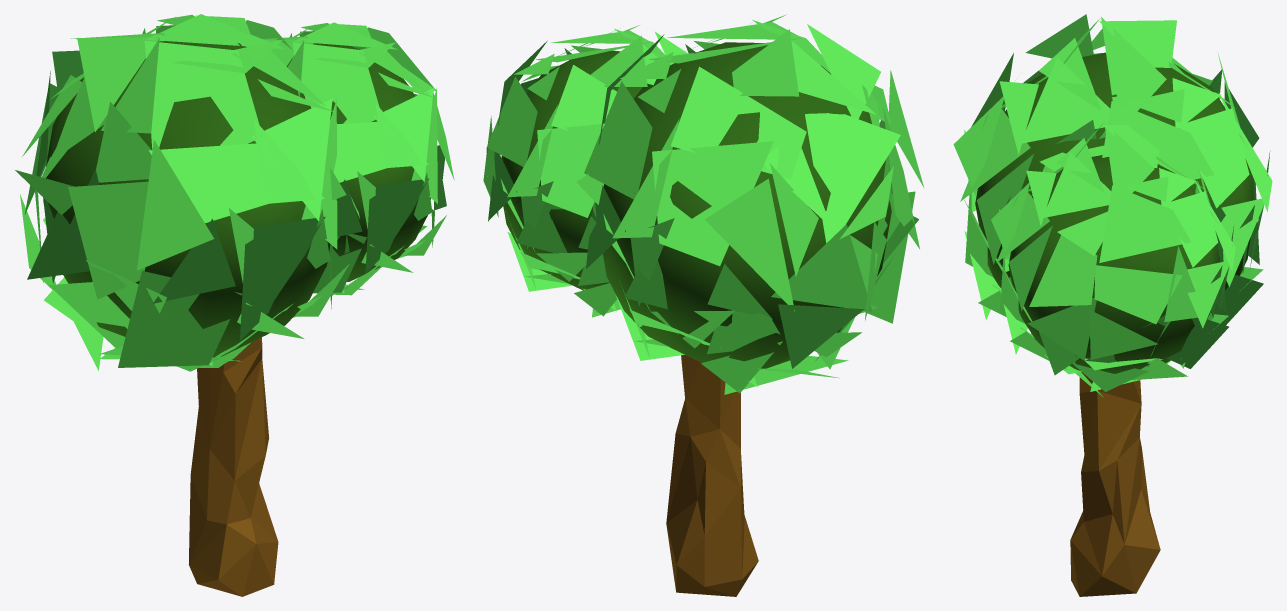
File: ArbolDef1.fbx
3 renders of one model, left to right at view 1: azimuth 30°, elevation 25°; view 2: azimuth 150°, elevation 25°; view 3: azimuth 270°, elevation 25°, orthographic. The views are drawn at different scales.
Visible parts, largest first — view 1: tree1DEF; view 2: tree1DEF; view 3: tree1DEF.
Boxes of the visible parts, box(x1,y1,x2,y2) form: tree1DEF: box(15, 14, 454, 596); tree1DEF: box(483, 14, 924, 596); tree1DEF: box(953, 14, 1272, 596).
Size of the model in its own units: 262 by 373 by 202.
